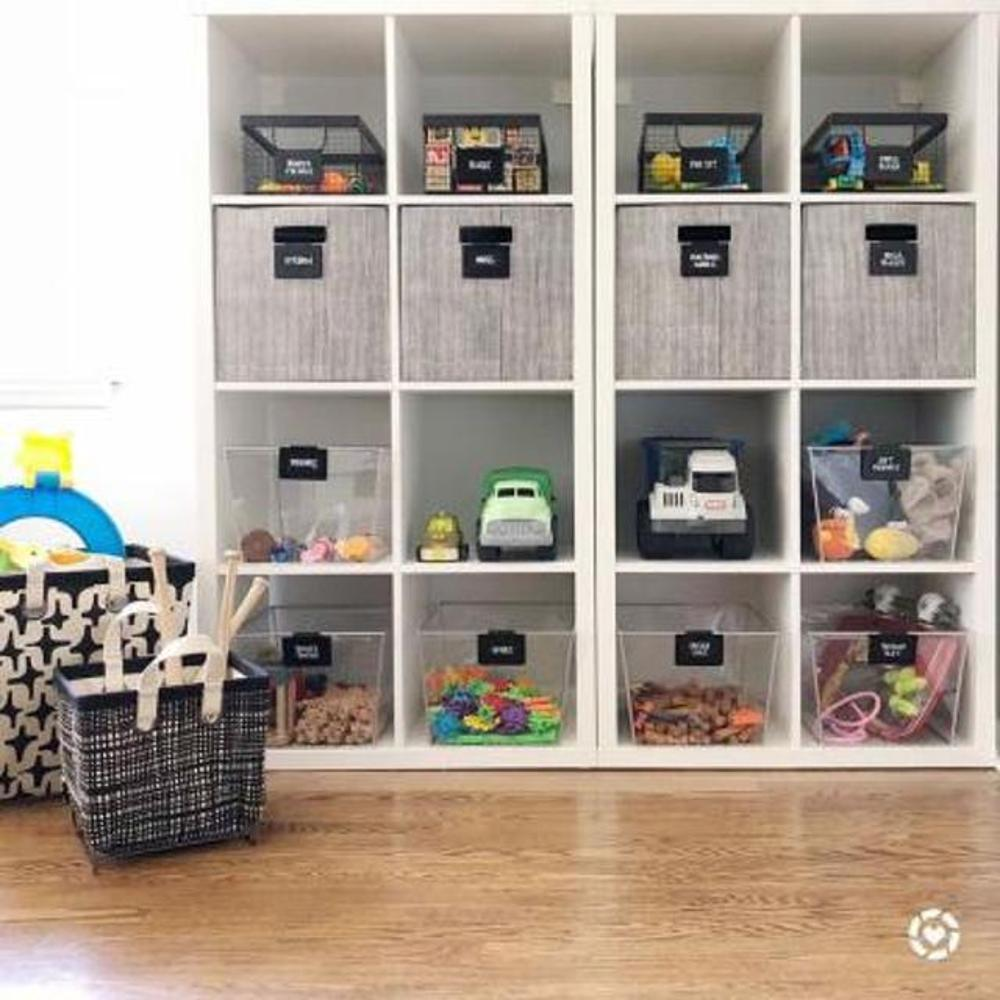lamp: (175, 10, 998, 772)
